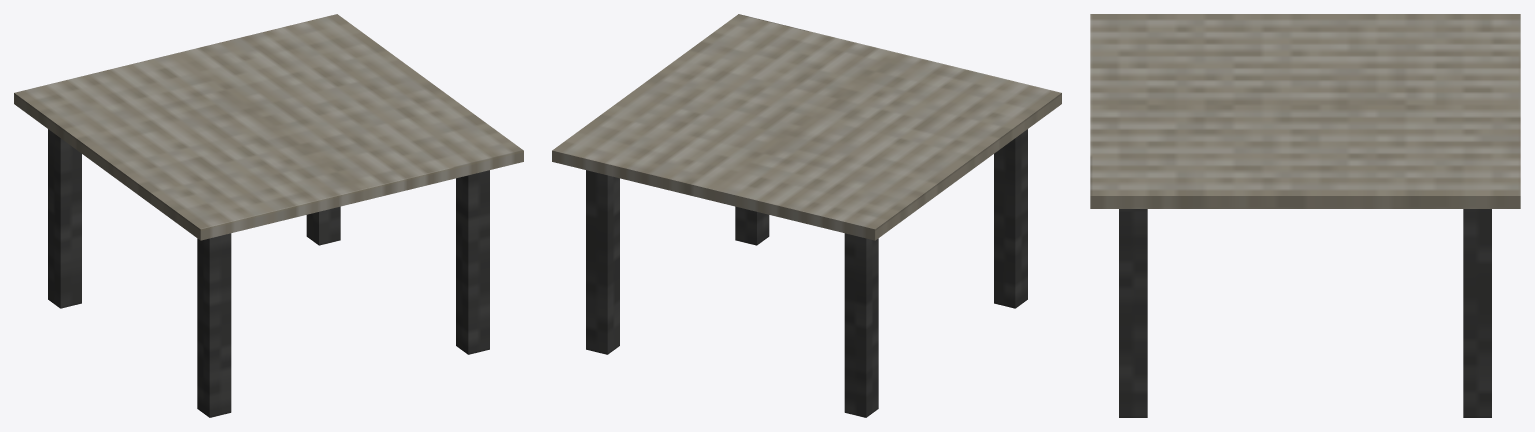
Rendered from Smallbuilding.fbx.
3 renders of one model, left to right at view 1: azimuth 30°, elevation 25°; view 2: azimuth 150°, elevation 25°; view 3: azimuth 270°, elevation 25°, orthographic. The views are drawn at different scales.
Parts seen in each view (by area): view 1: SmallBuilding; view 2: SmallBuilding; view 3: SmallBuilding.
Boxes of the visible parts, bbox=[...] form: SmallBuilding: bbox=[14, 14, 523, 417]; SmallBuilding: bbox=[552, 14, 1061, 417]; SmallBuilding: bbox=[1090, 14, 1520, 417].
Bounding box in the file's own units: 30 × 18 × 30.
